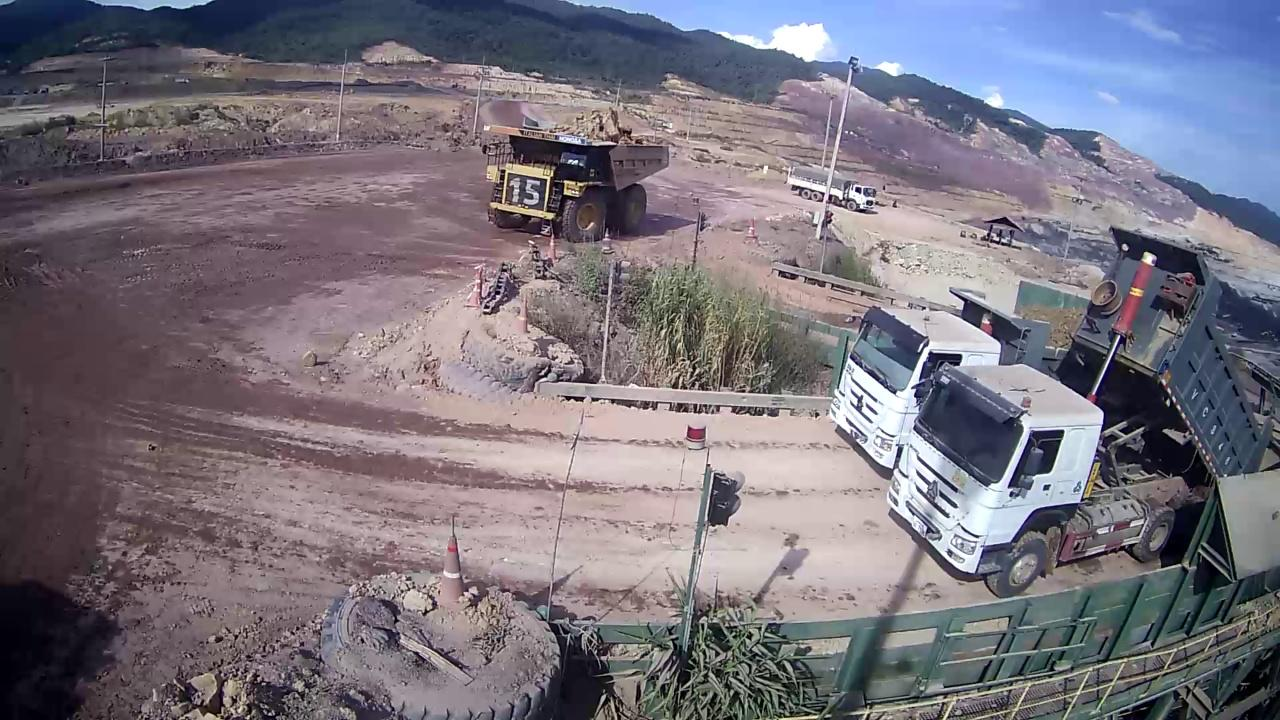front_number: (509, 172, 542, 212)
full_load: (541, 106, 666, 151)
mining_truck: (476, 100, 676, 248)
